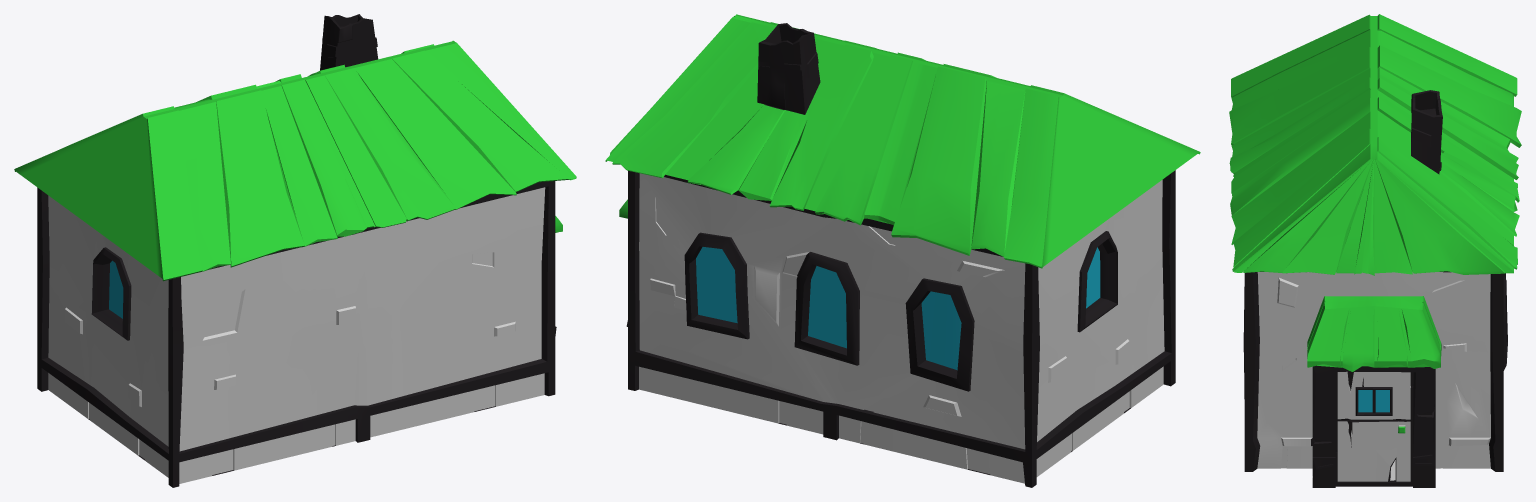
The model's file is Hütte neu test.fbx.
The picture shows the model from 3 angles, left to right: view 1: azimuth 30°, elevation 25°; view 2: azimuth 150°, elevation 25°; view 3: azimuth 270°, elevation 25°; orthographic projection. The views are drawn at different scales.
Parts seen in each view (by area): view 1: Cube (×4); view 2: Cube (×4); view 3: Cube (×3), Tür (×3).
Part boxes in pixels (x1=…): Cube (×4): x1=14, y1=14, x2=576, y2=487; Cube (×4): x1=605, y1=14, x2=1200, y2=487; Cube (×3): x1=1229, y1=14, x2=1521, y2=487; Tür (×3): x1=1335, y1=371, x2=1413, y2=486.
Bounding box in the file's own units: 891 × 652 × 535.
